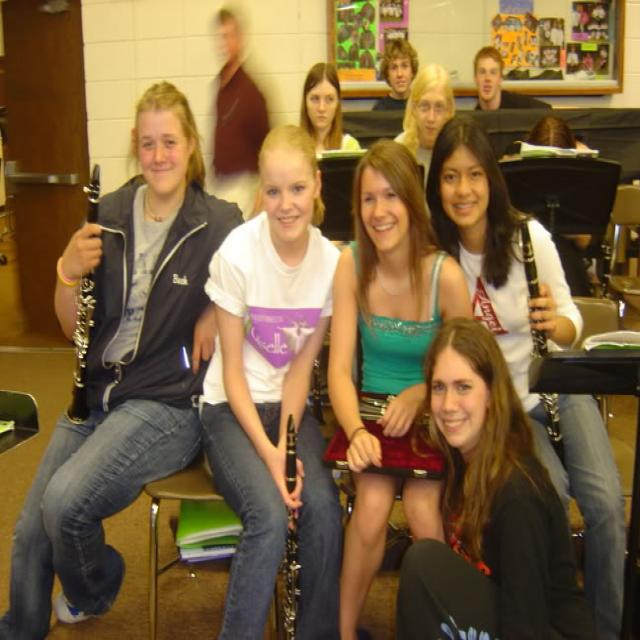clarinet: (516, 215, 572, 448), (57, 158, 104, 428), (272, 405, 312, 640)
